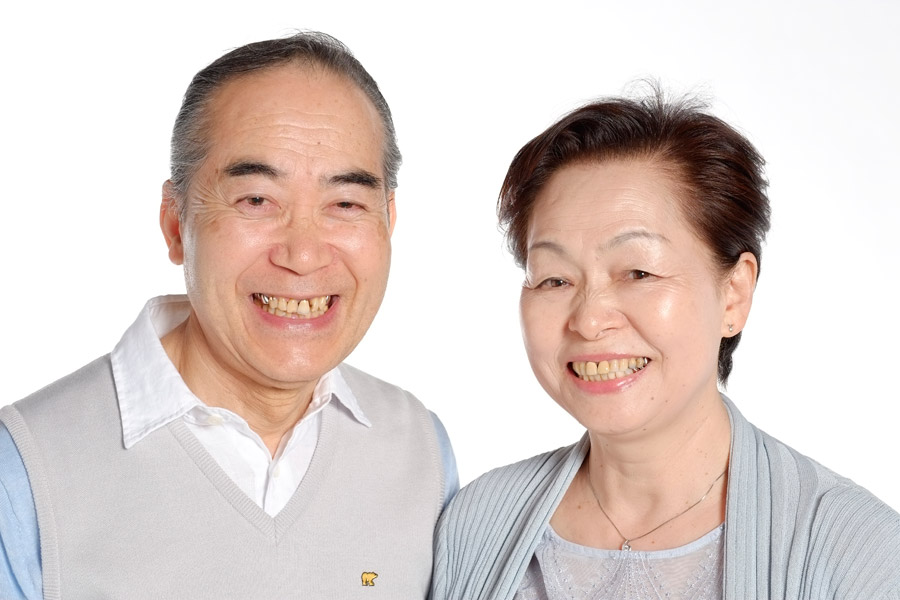female: (431, 97, 900, 600)
male: (1, 31, 458, 600)
